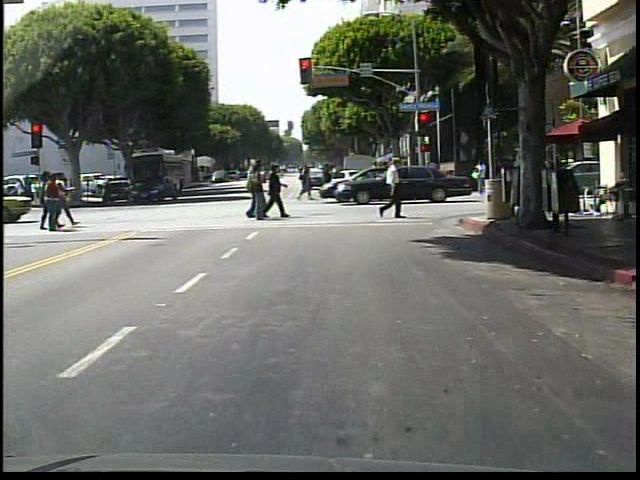person: (371, 153, 414, 225)
